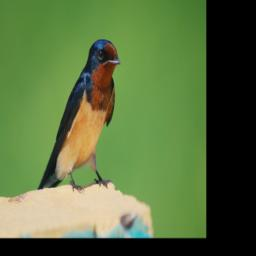Swallow: (37, 37, 121, 195)
